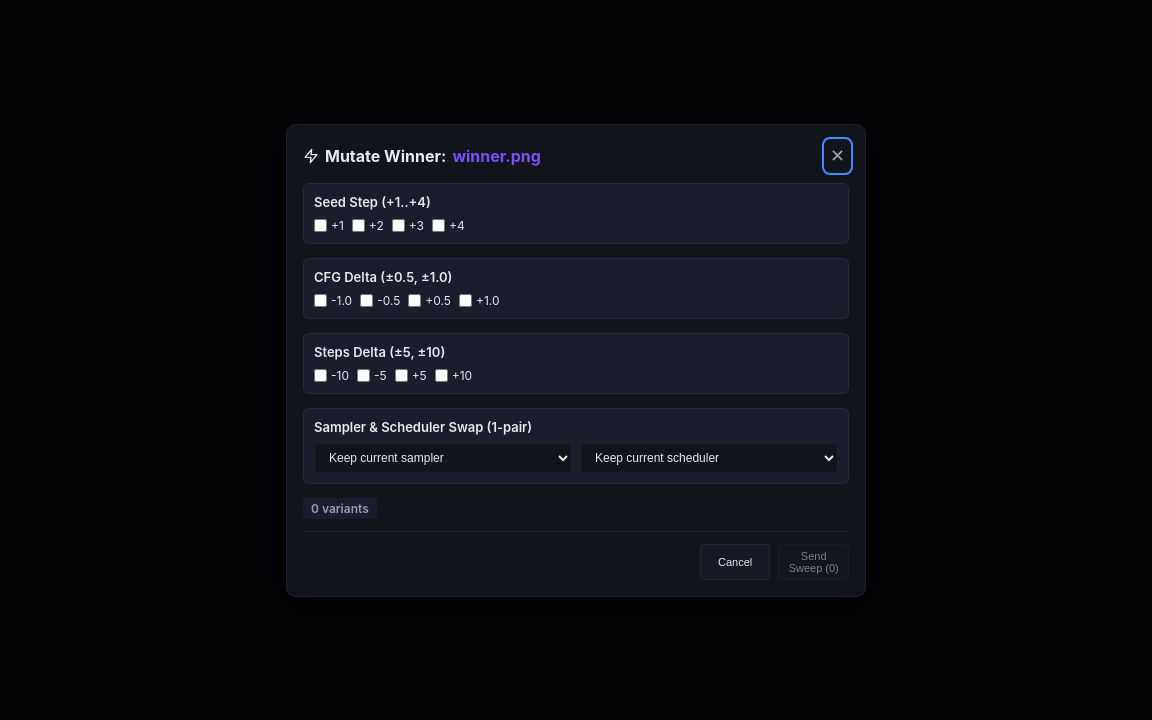
Test case: MutationPopover sweep › a winner with no CFG and a CFG delta shows the error row and disables Send
Step 1. Click the checkbox with test id "checkbox-cfg-plus-1" → (466, 300), box [459,294,472,306]
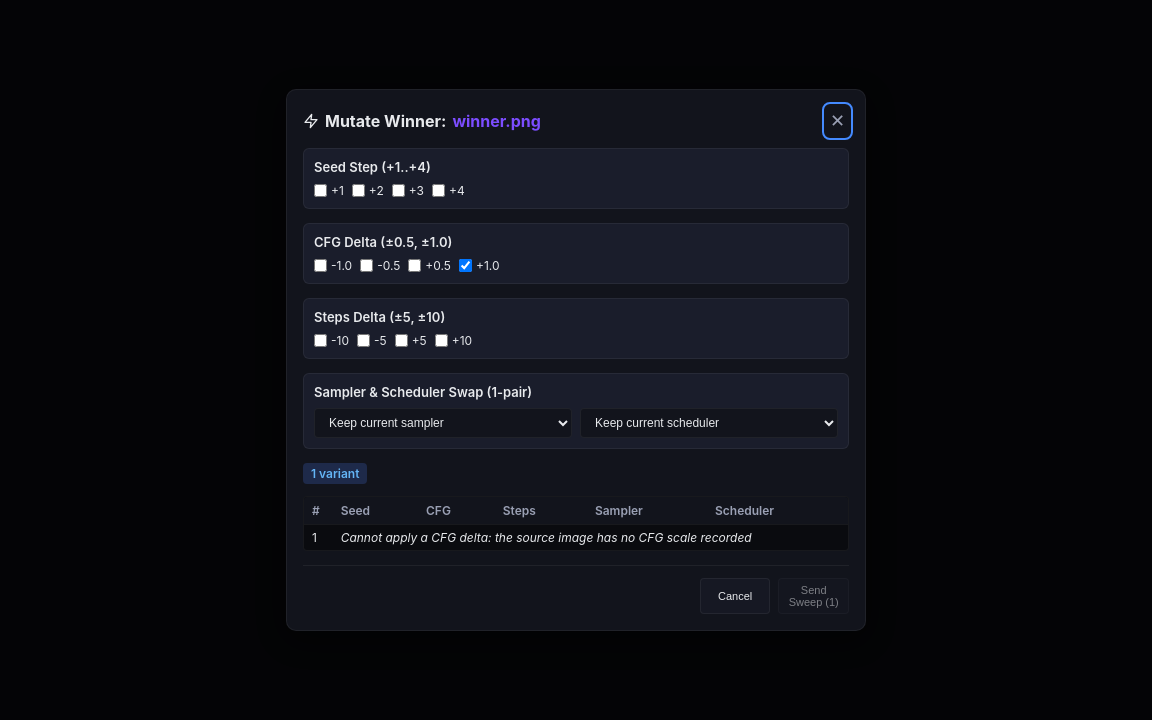
Expected: the button with test id "sweep-send-btn" is disabled, [778,578,849,614]
Expected: the text "no CFG scale recorded" is shown, [341,530,752,545]
